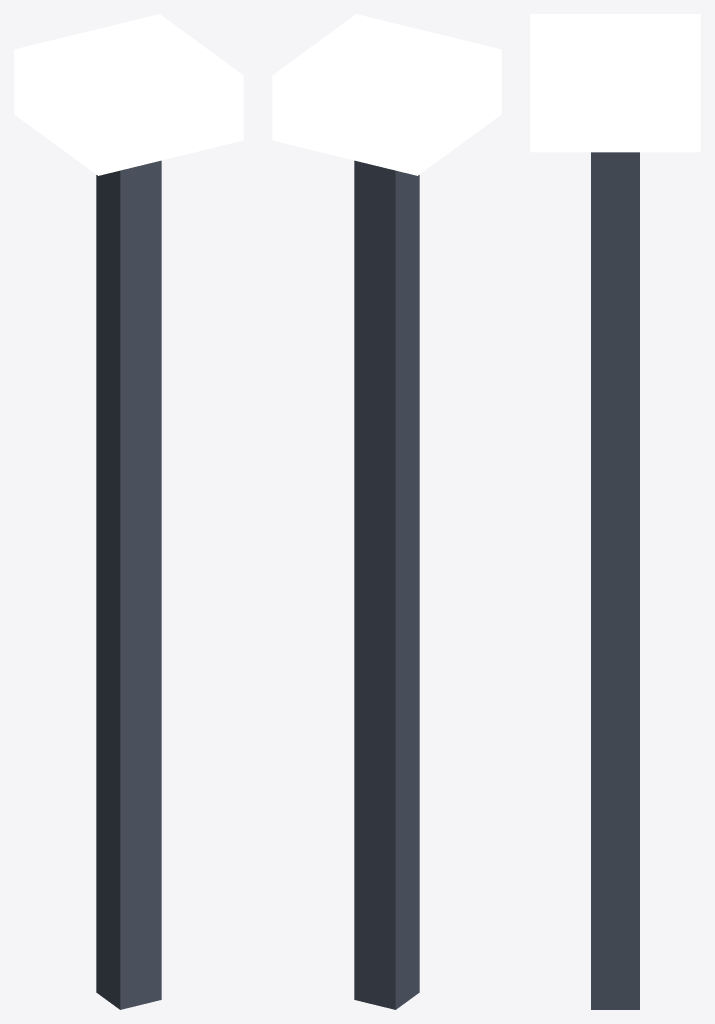
File: farola.glb
3 renders of one model, left to right at view 1: azimuth 30°, elevation 25°; view 2: azimuth 150°, elevation 25°; view 3: azimuth 270°, elevation 25°, orthographic.
Visible parts, largest first — view 1: farola; view 2: farola; view 3: farola.
Part boxes in pixels (x1,y1,x2,y2): farola: (14, 14, 243, 1009); farola: (272, 14, 501, 1009); farola: (530, 14, 700, 1009).
Size of the model in its own units: 0.7 by 4.3 by 0.7.
